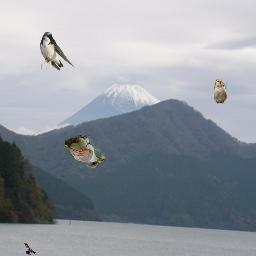Crow: (24, 241, 36, 255)
Cuckoo: (65, 135, 105, 168)
Sparrow: (214, 78, 227, 105)
Swallow: (39, 31, 75, 71)
